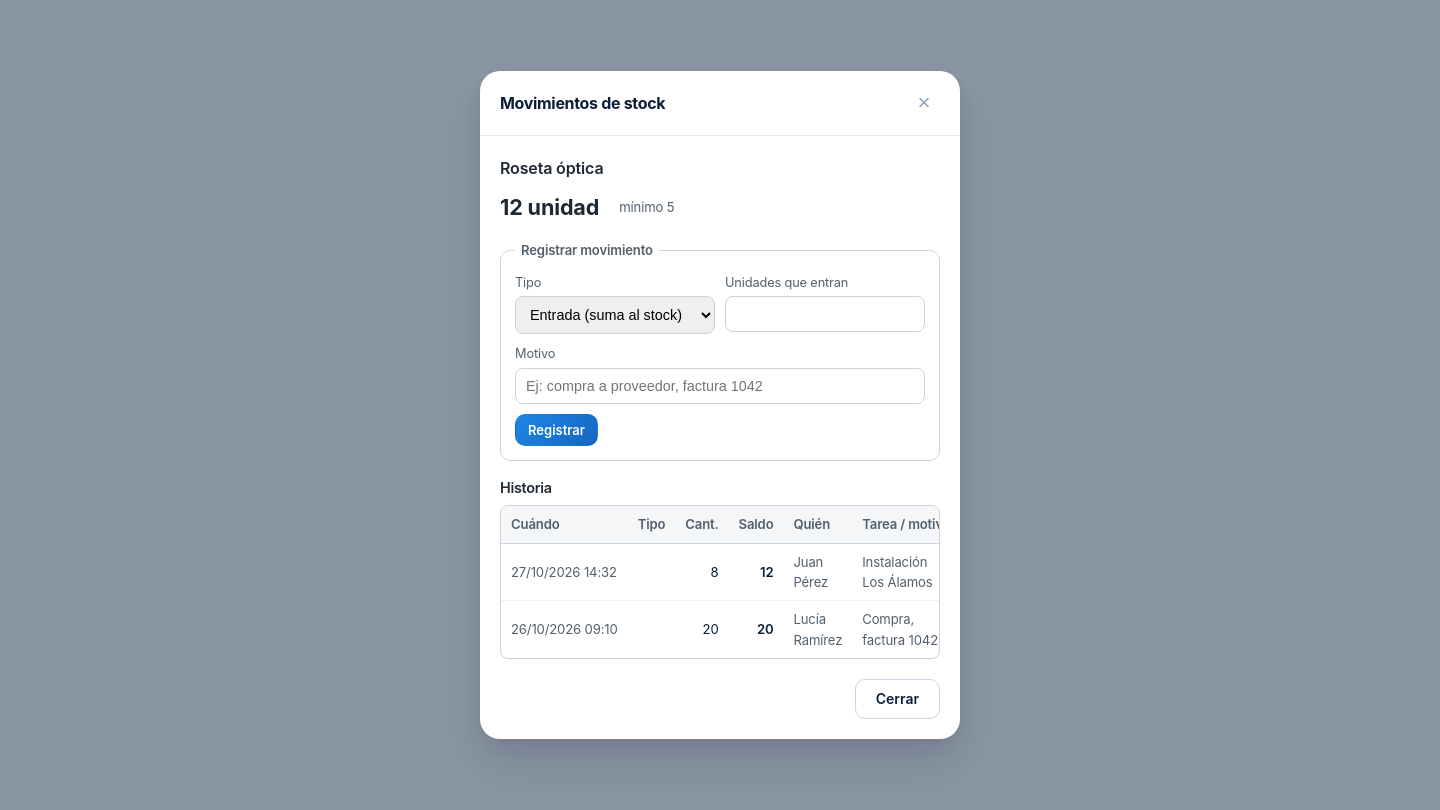
Test: ModalMovimientosMaterial › muestra el motivo que da el backend si rechaza el movimiento
The width and height of the screenshot is (1440, 810).
Expected: the text "Instalación Los Álamos" is shown, [852,543,940,601]
Type "12" into the number field labelled "Unidades que entran" at [825, 314], box [725,296,925,332]
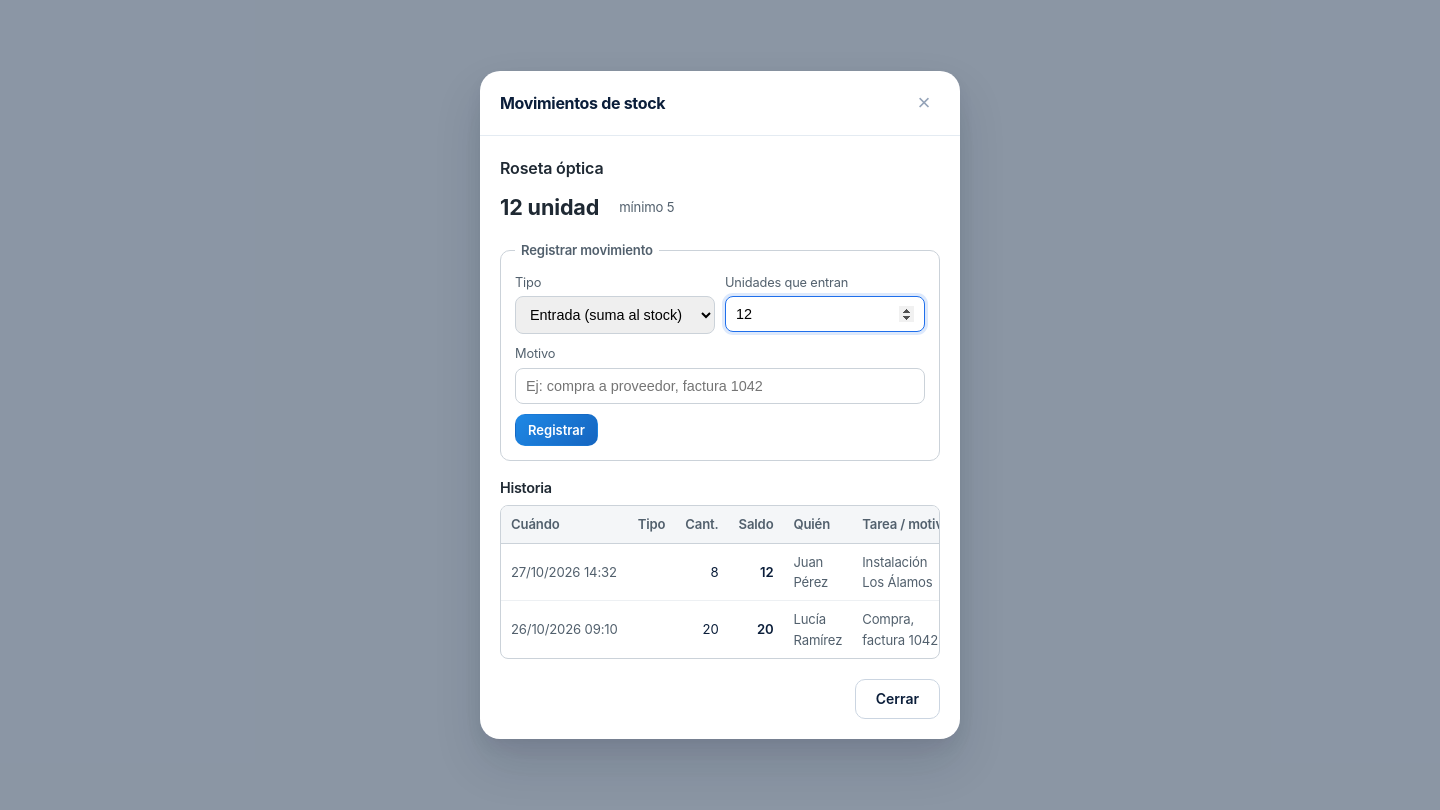
Click the button "Registrar" at [556, 430], box [515,414,598,446]
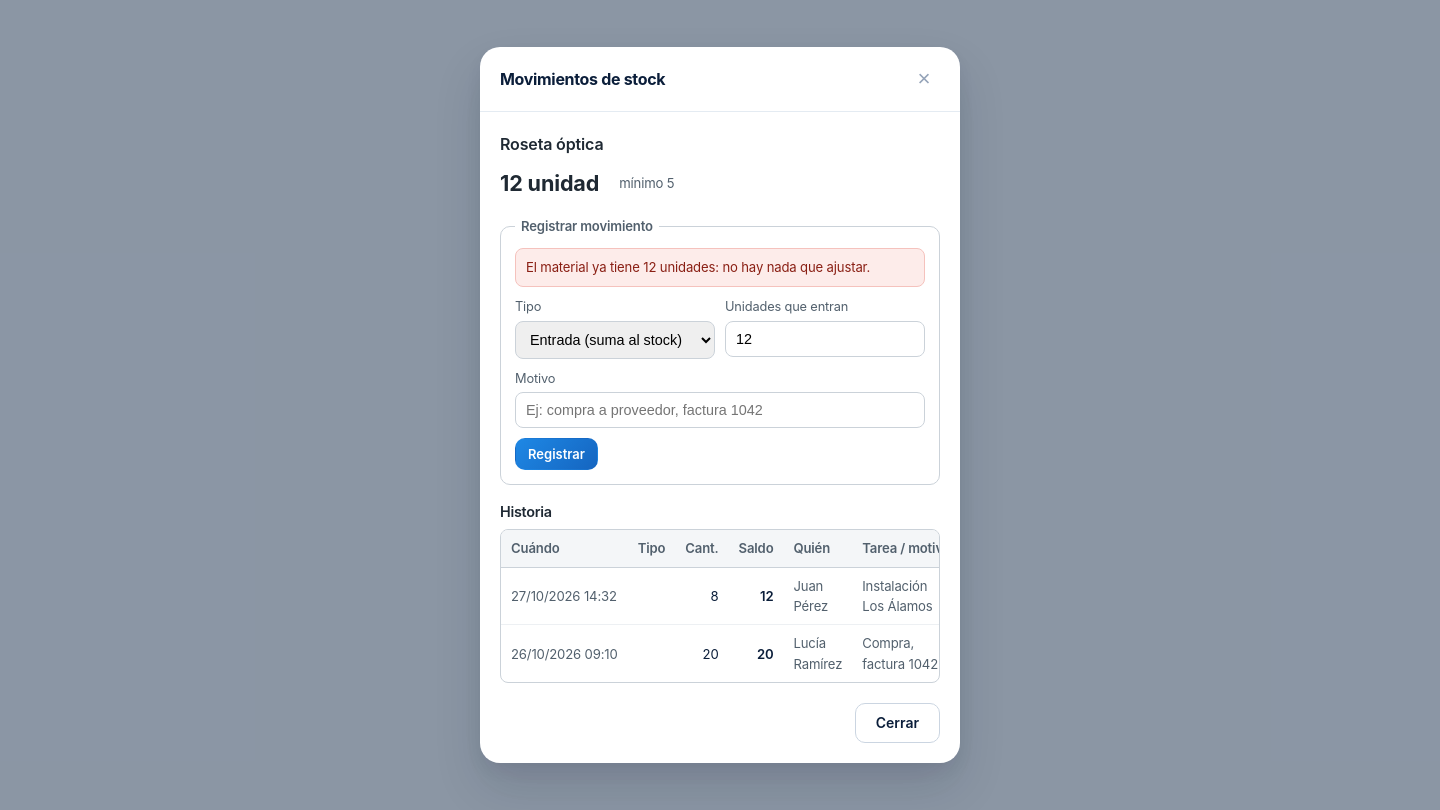
Expected: the message shows "no hay nada que ajustar", [526,259,870,275]
